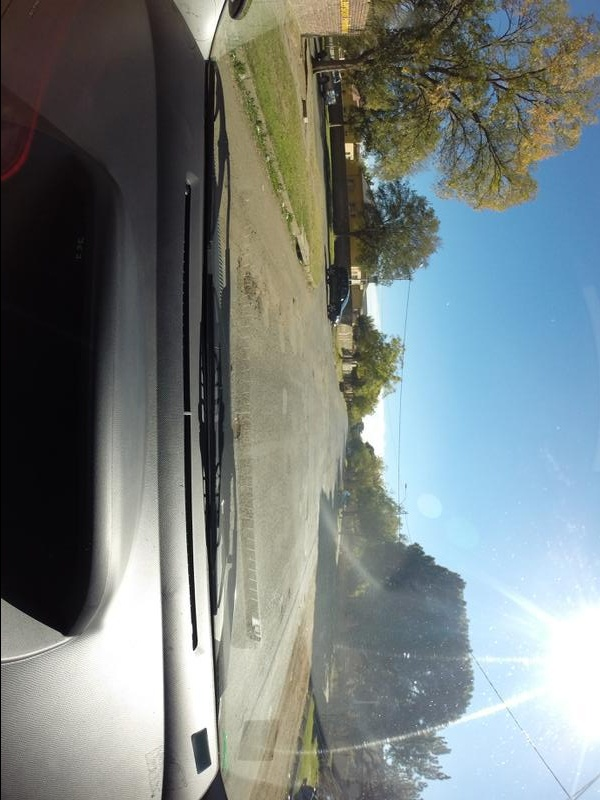pothole: (230, 252, 265, 335), (275, 587, 297, 631), (230, 412, 256, 446)
